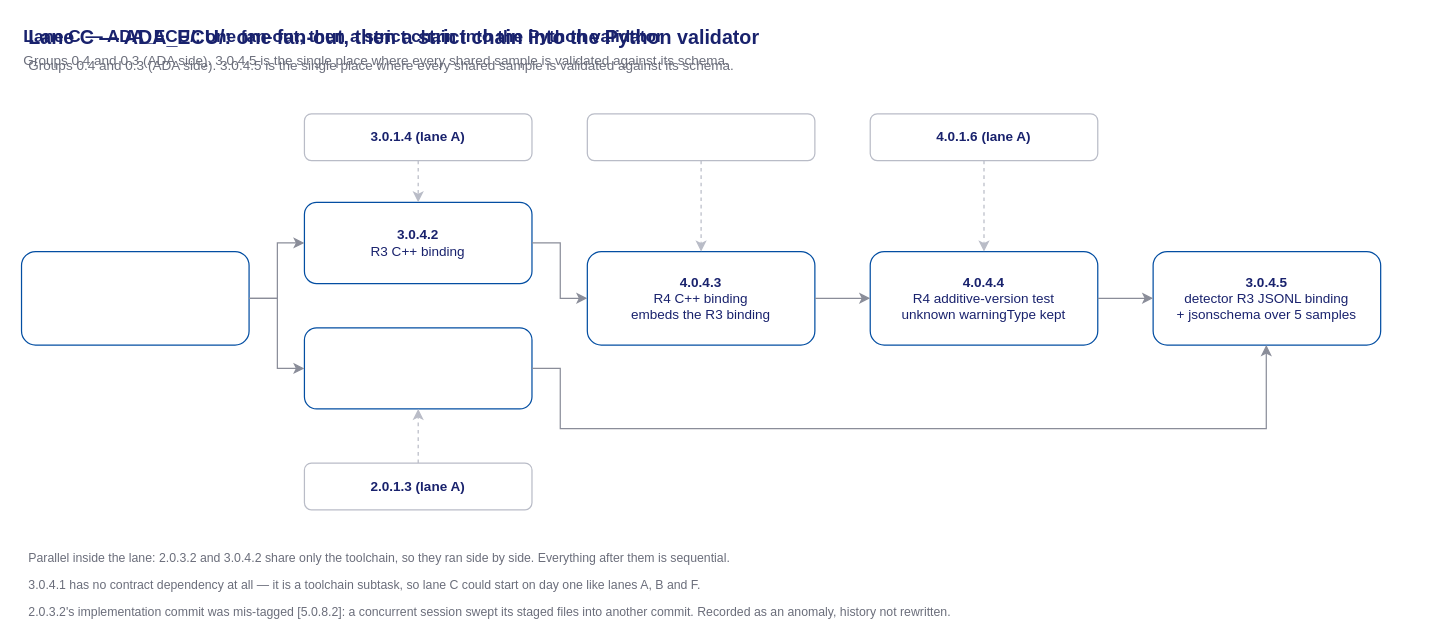
Image size: 1445x642. Some labels were removed from this diagram. The shapes that lost their labels are listed below. From the top down, each one's centre as x and y in pixels, then its label:
point 700,137: 4.0.1.5 (lane A)
point 134,297: 3.0.4.1 ADA CMake toolchain no Vanetza — never UPER
point 417,368: 2.0.3.2 R2 C++ binding
